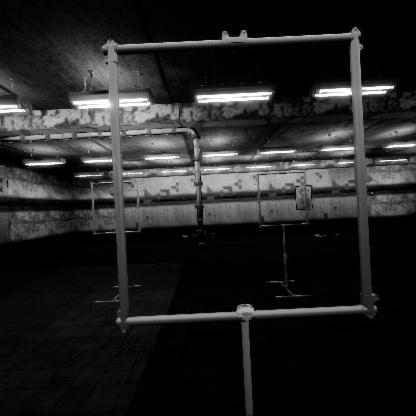gate: (108, 86, 395, 383), (256, 187, 312, 245), (91, 180, 145, 235)
